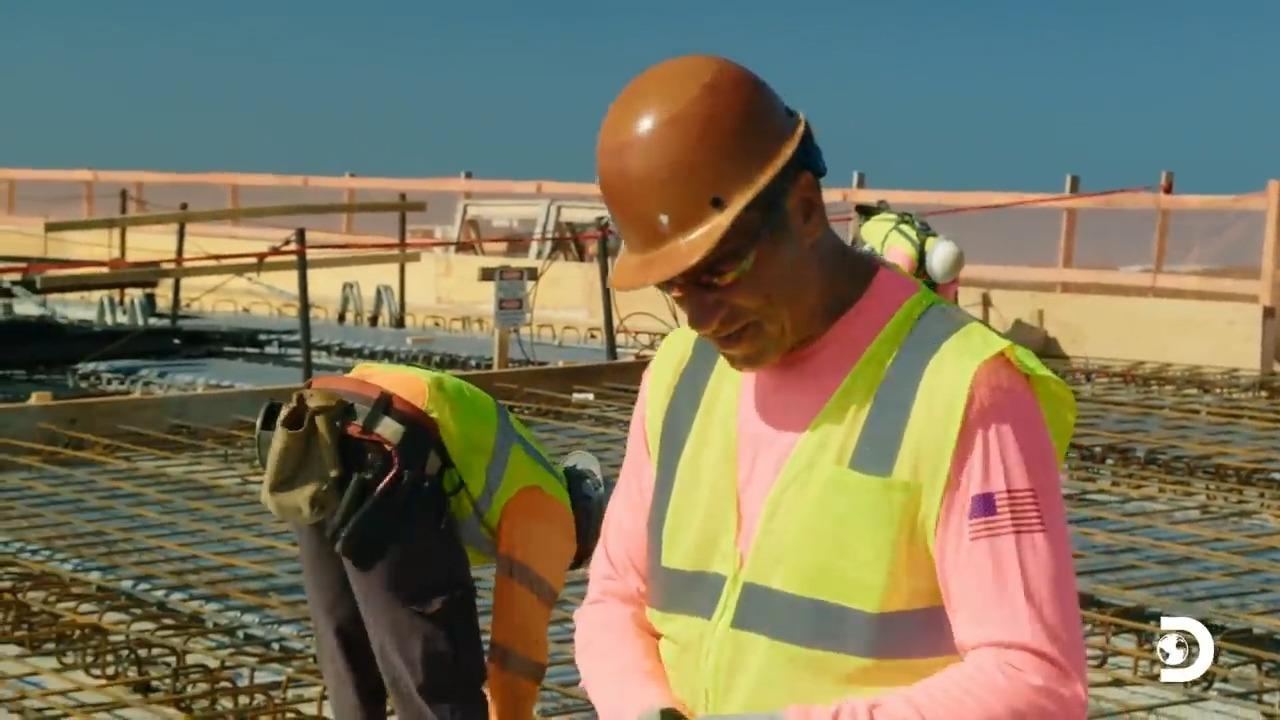Helmet: (595, 53, 805, 292), (924, 230, 964, 286)
Person: (586, 51, 1078, 720), (259, 360, 578, 719), (853, 202, 981, 280)
Safety Vest: (656, 385, 969, 720), (383, 387, 560, 534), (864, 218, 920, 258)
